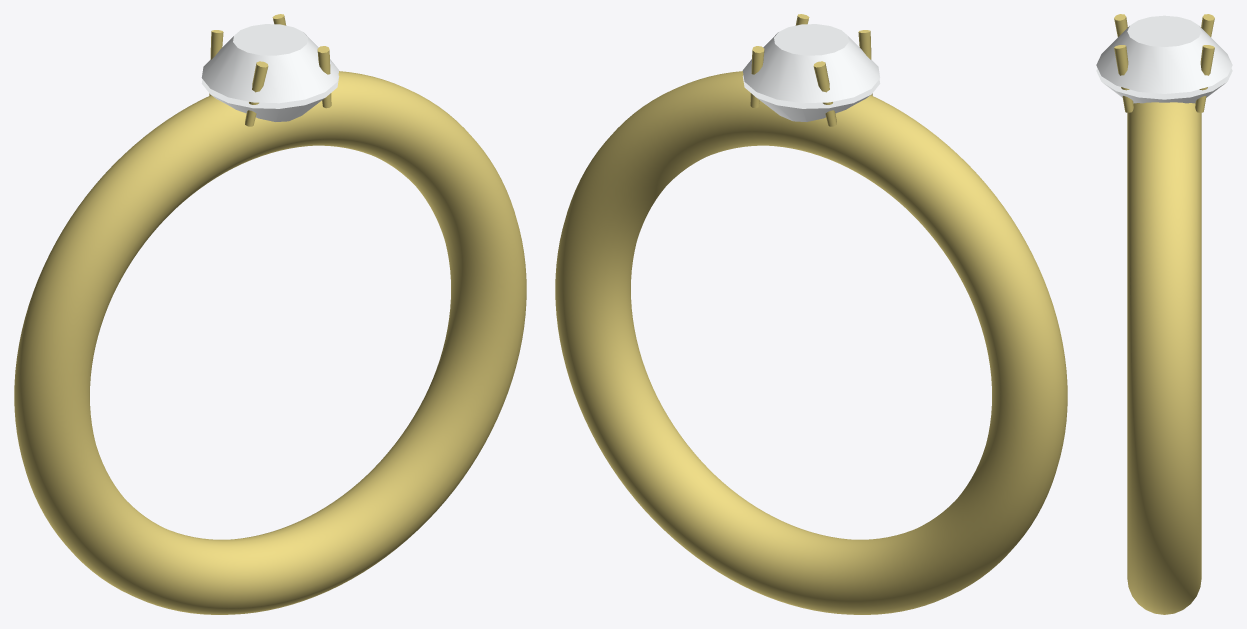
Rendered from ring.glb.
3 views of the same model, side by side, from view 1: azimuth 30°, elevation 25°; view 2: azimuth 150°, elevation 25°; view 3: azimuth 270°, elevation 25° (orthographic).
Visible parts, largest first — view 1: gold_band_metal, hero_diamond_stone; view 2: gold_band_metal, hero_diamond_stone; view 3: gold_band_metal, hero_diamond_stone.
Part boxes in pixels (left/top/right/bottom): gold_band_metal: left=14, top=14, right=526, bottom=614; hero_diamond_stone: left=201, top=24, right=339, bottom=121; gold_band_metal: left=555, top=14, right=1067, bottom=614; hero_diamond_stone: left=742, top=24, right=880, bottom=121; gold_band_metal: left=1114, top=14, right=1214, bottom=614; hero_diamond_stone: left=1096, top=15, right=1232, bottom=103.
Bounding box in the file's own units: 1.84 × 1.98 × 0.44.
